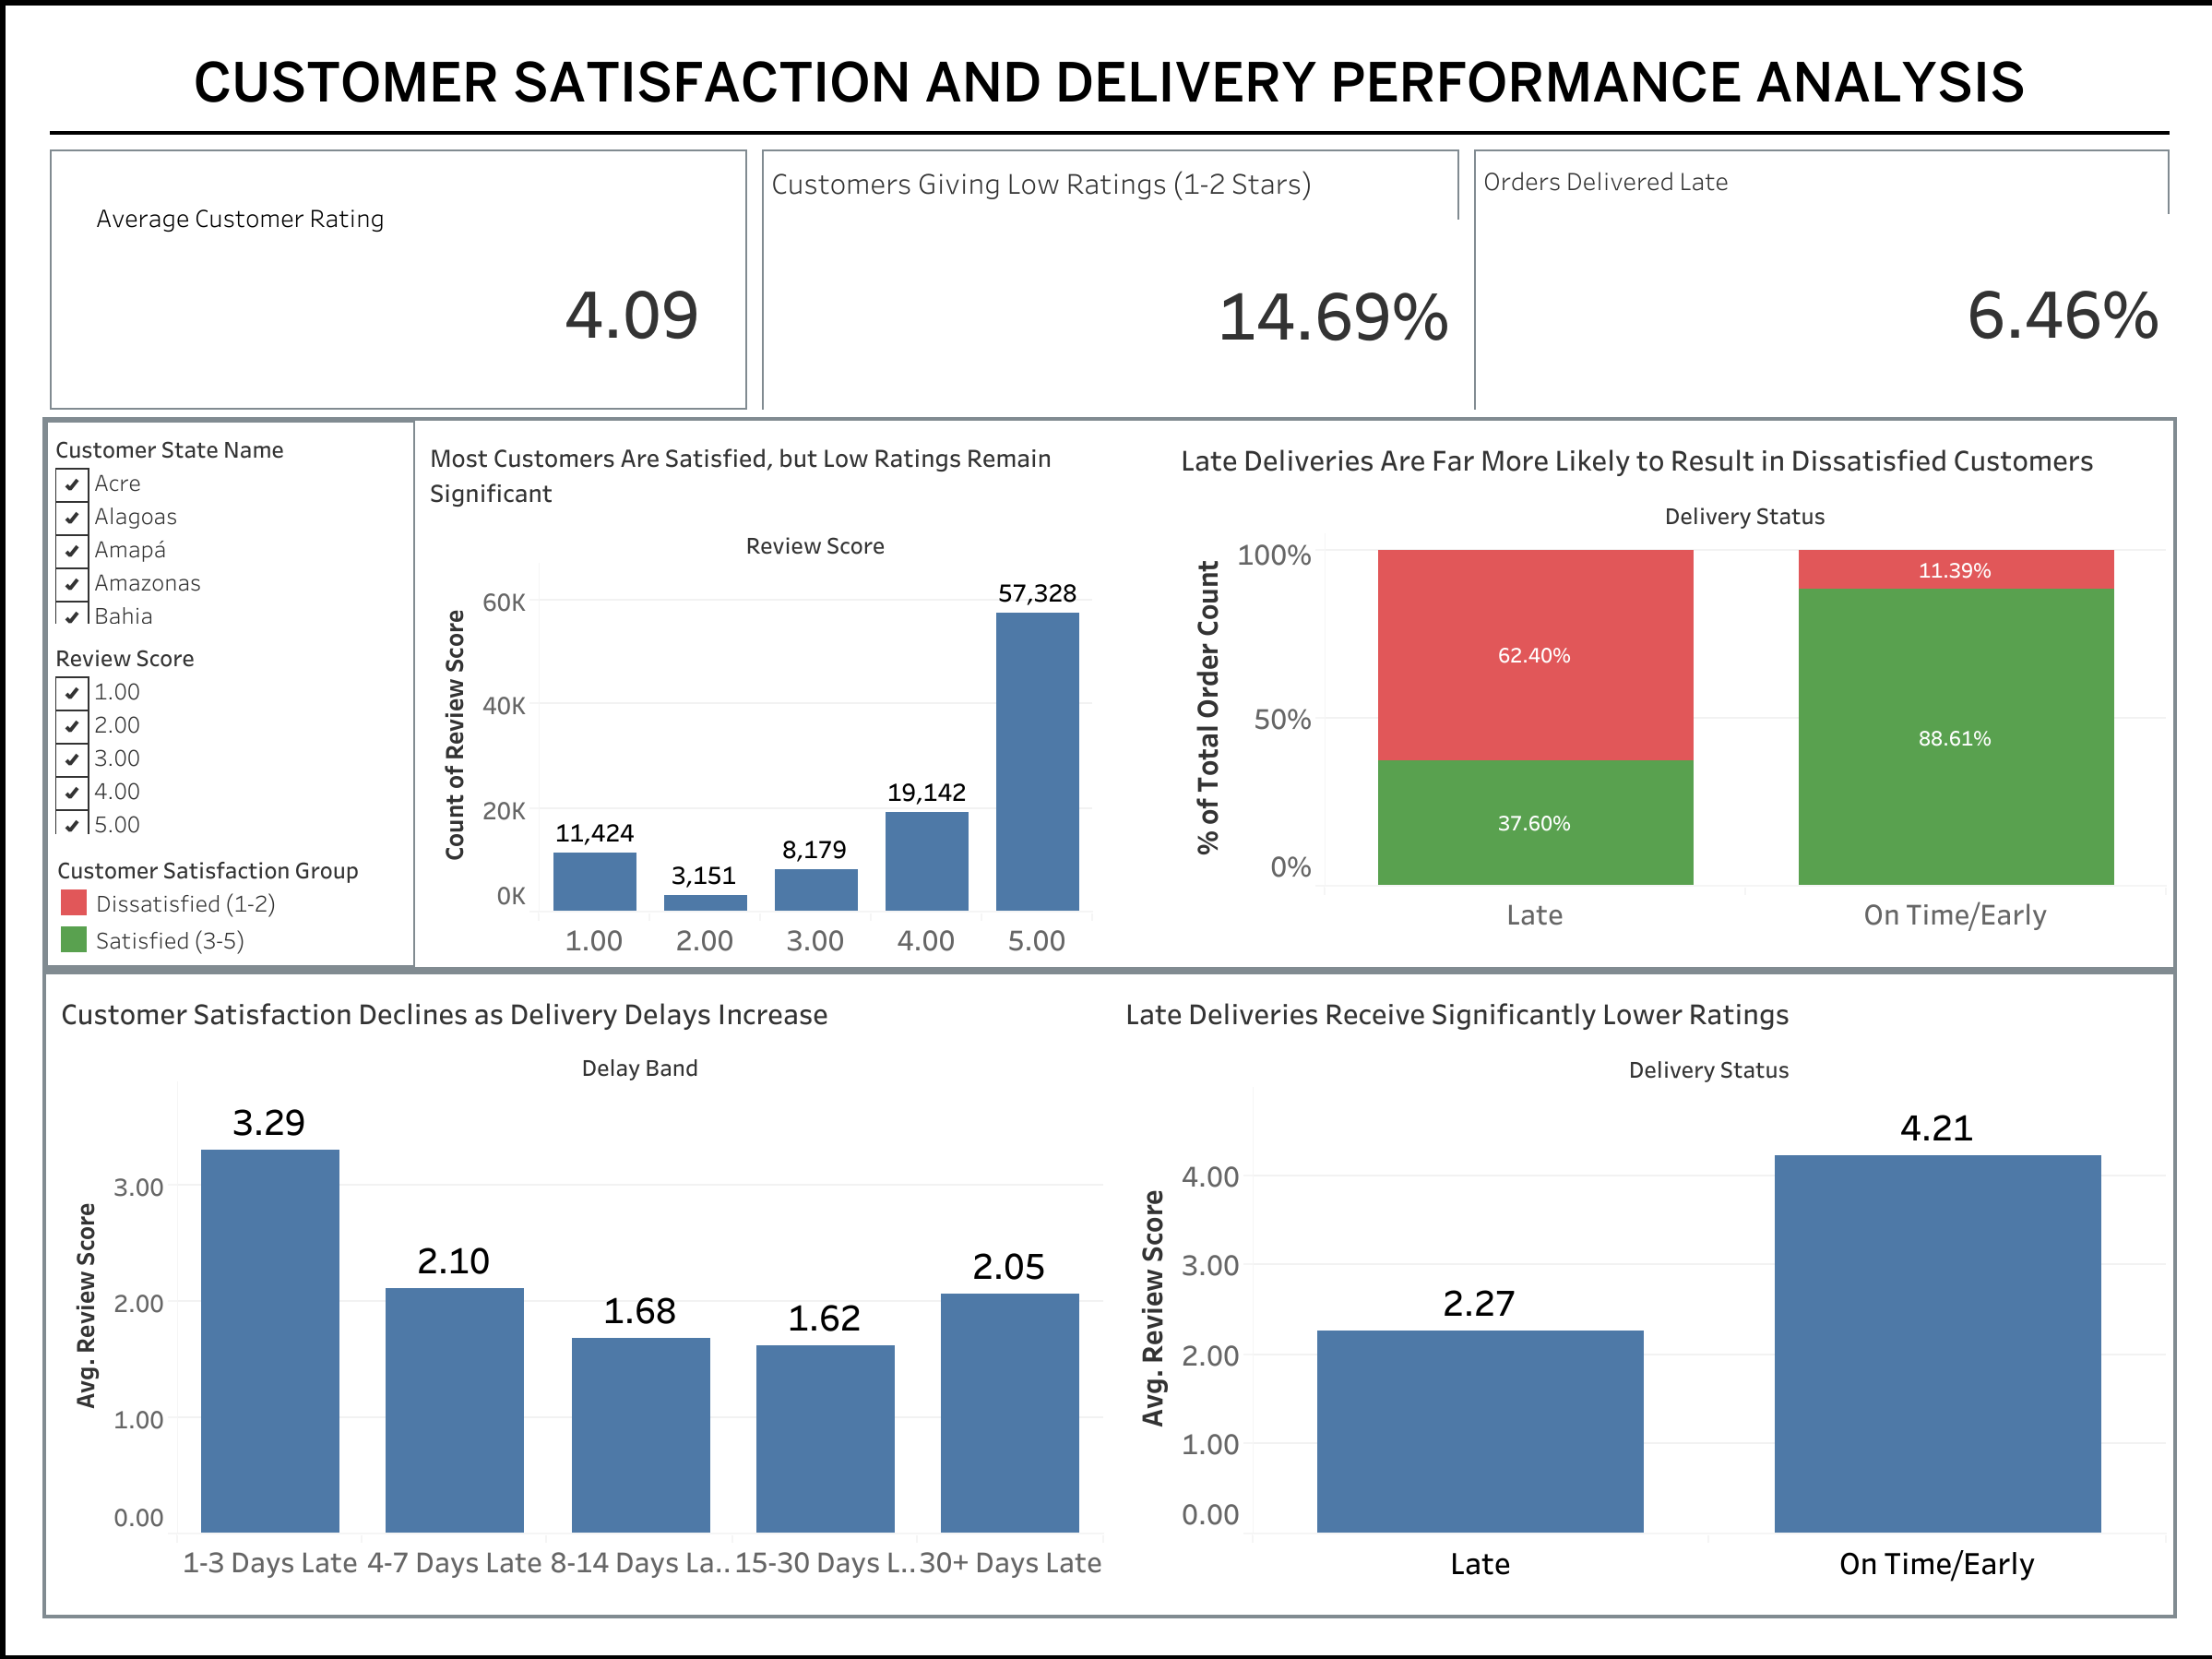

The page's visual inventory and layout, read from the dashboard file:
{"tool":"tableau","page":{"name":"Dashboard 1","canvas":[1200,900],"ordinal":0},"visuals":[{"type":"text","box":[23,23,1157,43]},{"type":"blank","box":[23,66,1157,10]},{"type":"worksheet","title":"Avg. Review Score","mark":"Automatic","box":[23,76,386,149]},{"type":"worksheet","title":"% of Dissatisfied Customers","mark":"Text","box":[409,76,386,149]},{"type":"worksheet","title":"% of Late Deliveries","mark":"Automatic","box":[795,76,385,149]},{"type":"worksheet","title":"Review Score Distribution","mark":"Bar","rows":["review_score"],"cols":["review_score"],"box":[225,227,407,296]},{"type":"worksheet","title":"Satisfied vs Dissatisfied Customers by Delivery Status","mark":"Automatic","cols":["delivery_status"],"box":[632,227,546,296]},{"type":"filter","title":"% of Dissatisfied Customers","param":"[federated.0f8fc211a92zw817f9tbw03zqc1q].[none:customer_state_name:nk]","box":[26,228,198,114]},{"type":"filter","title":"Review Score Distribution","param":"[federated.0f8fc211a92zw817f9tbw03zqc1q].[none:review_score:ok]","box":[26,342,198,114]},{"type":"legend","title":"Satisfied vs Dissatisfied Customers by Delivery Status","param":"[federated.0f8fc211a92zw817f9tbw03zqc1q].[none:Calculation_1406389732962131969:n","box":[26,456,198,66]},{"type":"worksheet","title":"Average Review Score by Delay Band","mark":"Automatic","rows":["review_score"],"cols":["delay_band"],"box":[25,527,577,348]},{"type":"worksheet","title":"Average Review Score by Delivery Status","mark":"Automatic","rows":["review_score"],"cols":["delivery_status"],"box":[602,527,576,348]}]}

Visuals, with their boxes in screenshot pixels (x1, y1, x2, y2), scaled from the page's 1200x900 canvas onto the 2212x1659 screenshot:
text: [left=42, top=42, right=2175, bottom=122]
blank: [left=42, top=122, right=2175, bottom=140]
"Avg. Review Score" worksheet: [left=42, top=140, right=754, bottom=415]
"% of Dissatisfied Customers" worksheet (Text marks): [left=754, top=140, right=1466, bottom=415]
"% of Late Deliveries" worksheet: [left=1466, top=140, right=2175, bottom=415]
"Review Score Distribution" worksheet (Bar marks): [left=415, top=418, right=1165, bottom=964]
"Satisfied vs Dissatisfied Customers by Delivery Status" worksheet: [left=1165, top=418, right=2171, bottom=964]
"% of Dissatisfied Customers" filter: [left=48, top=420, right=413, bottom=630]
"Review Score Distribution" filter: [left=48, top=630, right=413, bottom=841]
"Satisfied vs Dissatisfied Customers by Delivery Status" legend: [left=48, top=841, right=413, bottom=962]
"Average Review Score by Delay Band" worksheet: [left=46, top=972, right=1110, bottom=1613]
"Average Review Score by Delivery Status" worksheet: [left=1110, top=972, right=2171, bottom=1613]
